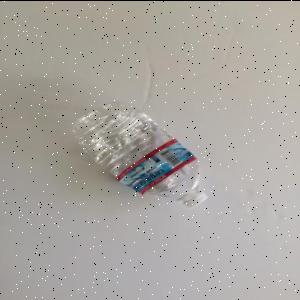Plastic-bottle: (68, 101, 210, 210)
